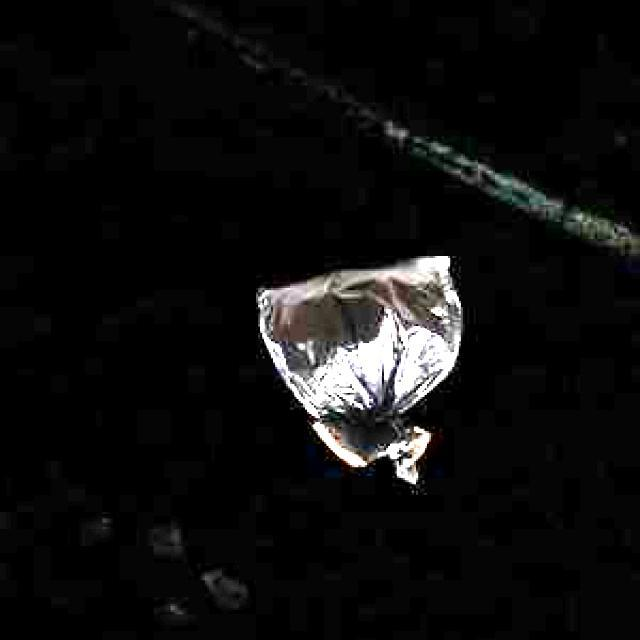Garbage_Bag: (255, 255, 458, 479)
